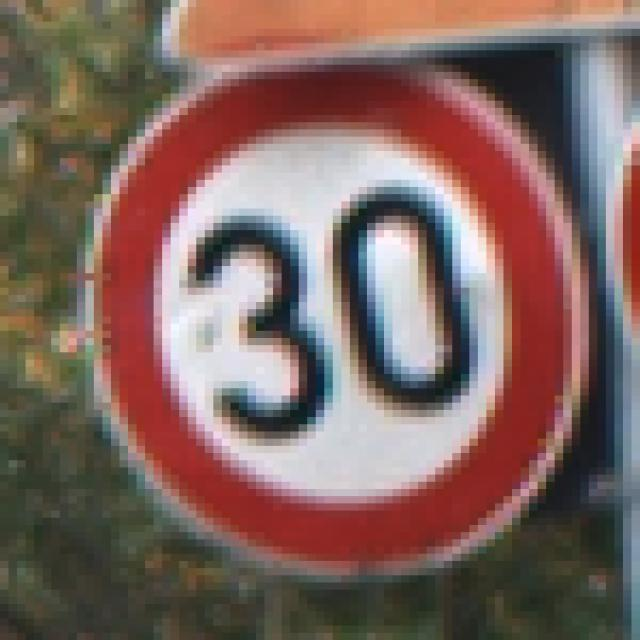Speed Limit -30-: (59, 54, 572, 579)
